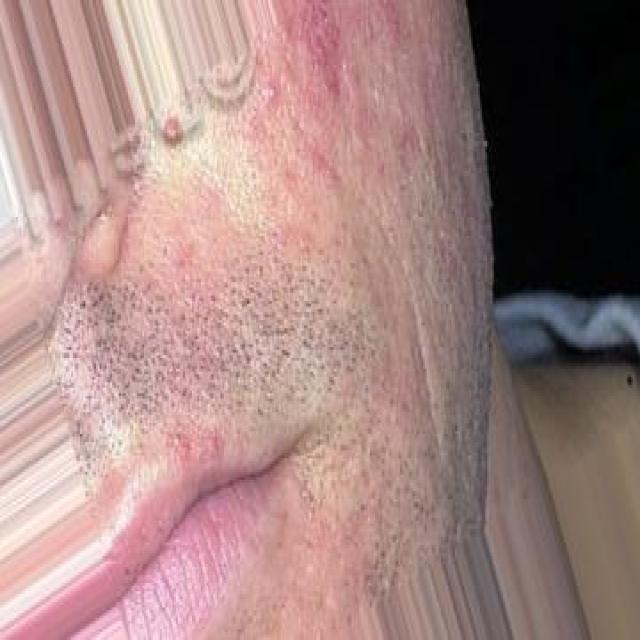Rosacea: (248, 8, 412, 176)
